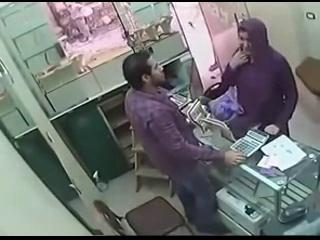Normal: (121, 52, 248, 234), (215, 17, 298, 139), (93, 196, 196, 236), (230, 128, 270, 158)
